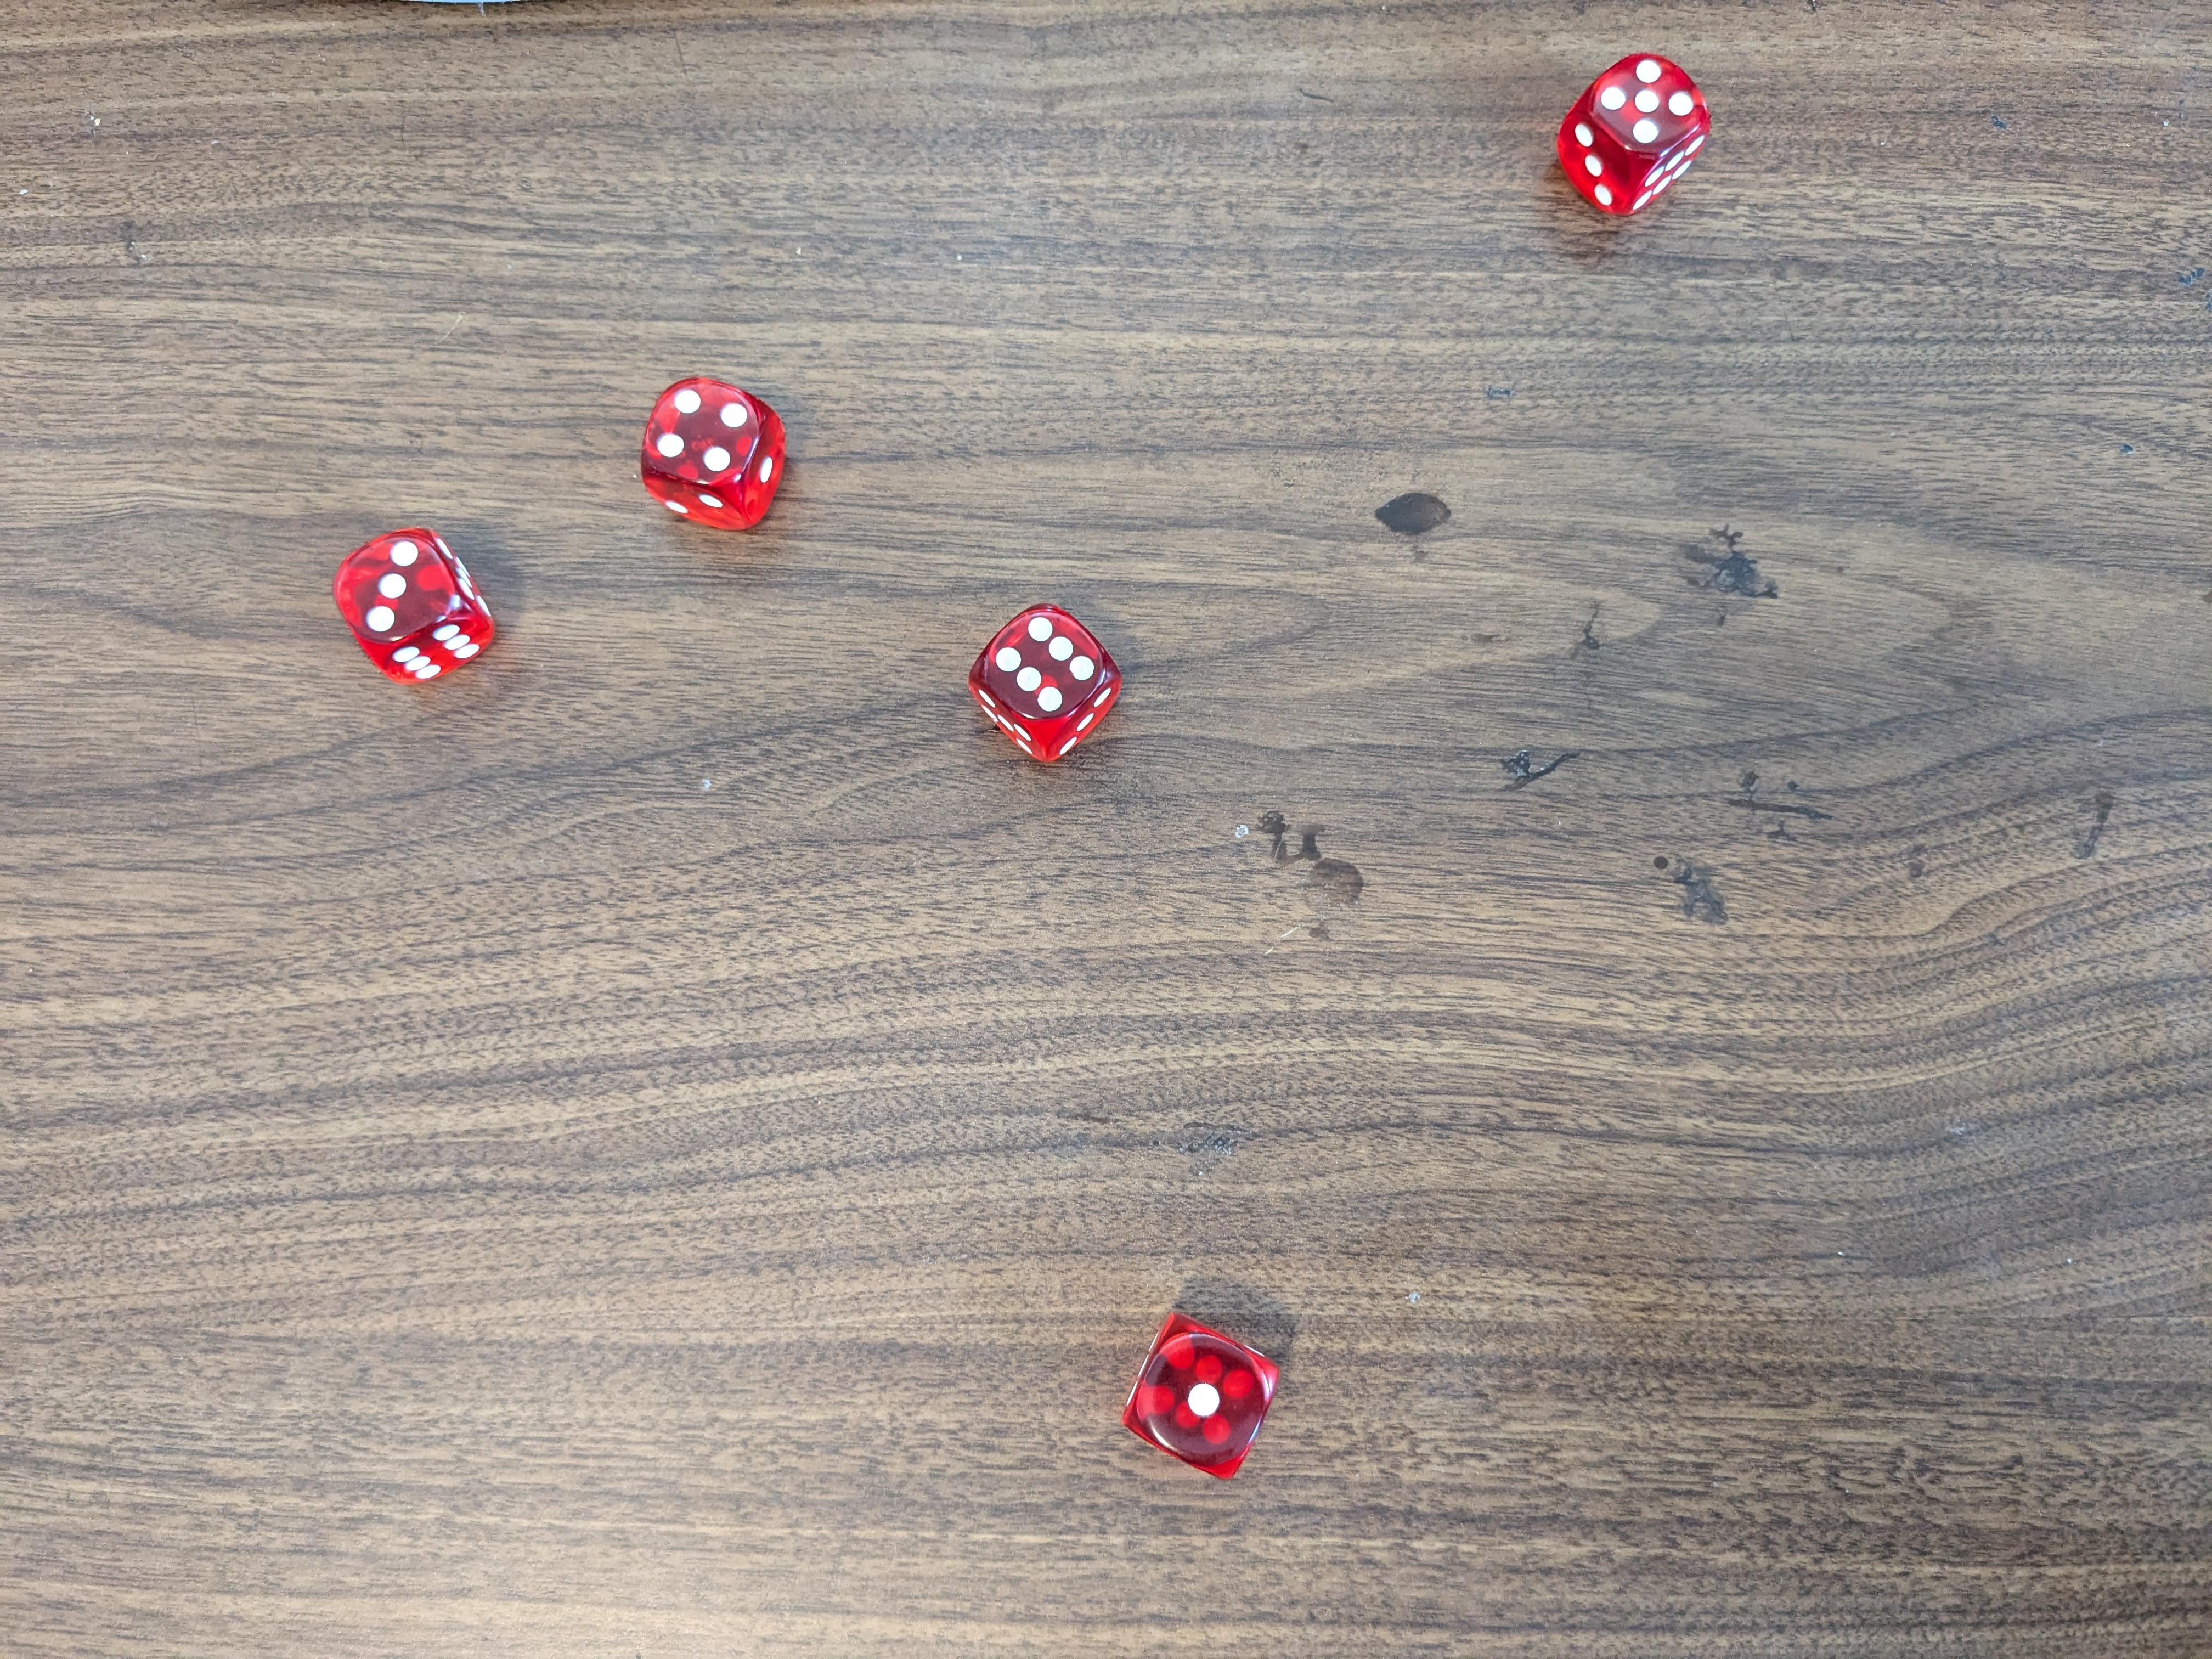five: (1555, 52, 1712, 211)
four: (639, 373, 786, 530)
one: (1122, 1305, 1291, 1480)
six: (965, 601, 1125, 774)
three: (327, 523, 507, 681)
